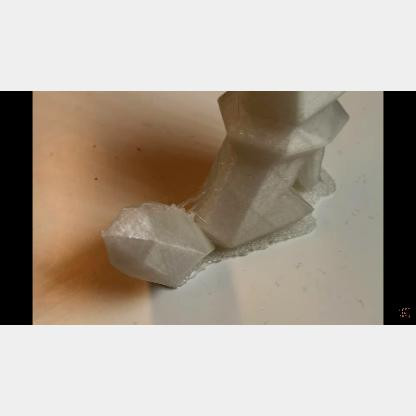fail: (170, 190, 208, 216)
